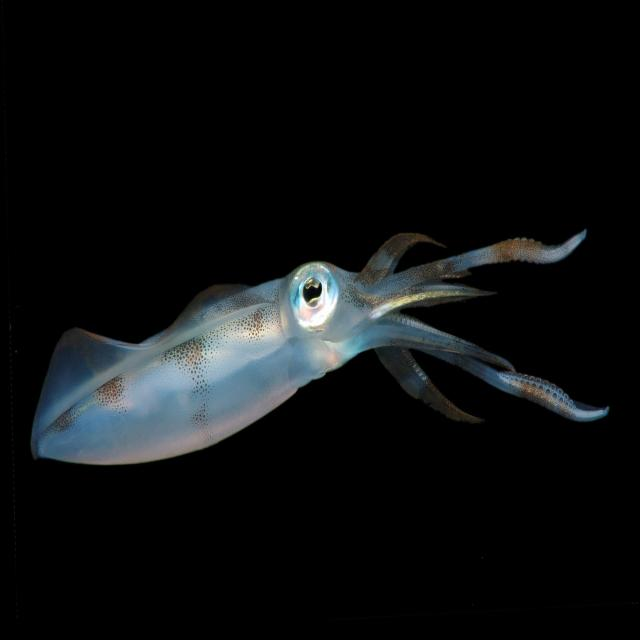SQUID: (8, 215, 601, 483)
